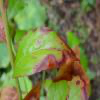Blueberry leaf: (10, 25, 86, 80), (46, 44, 96, 99)
